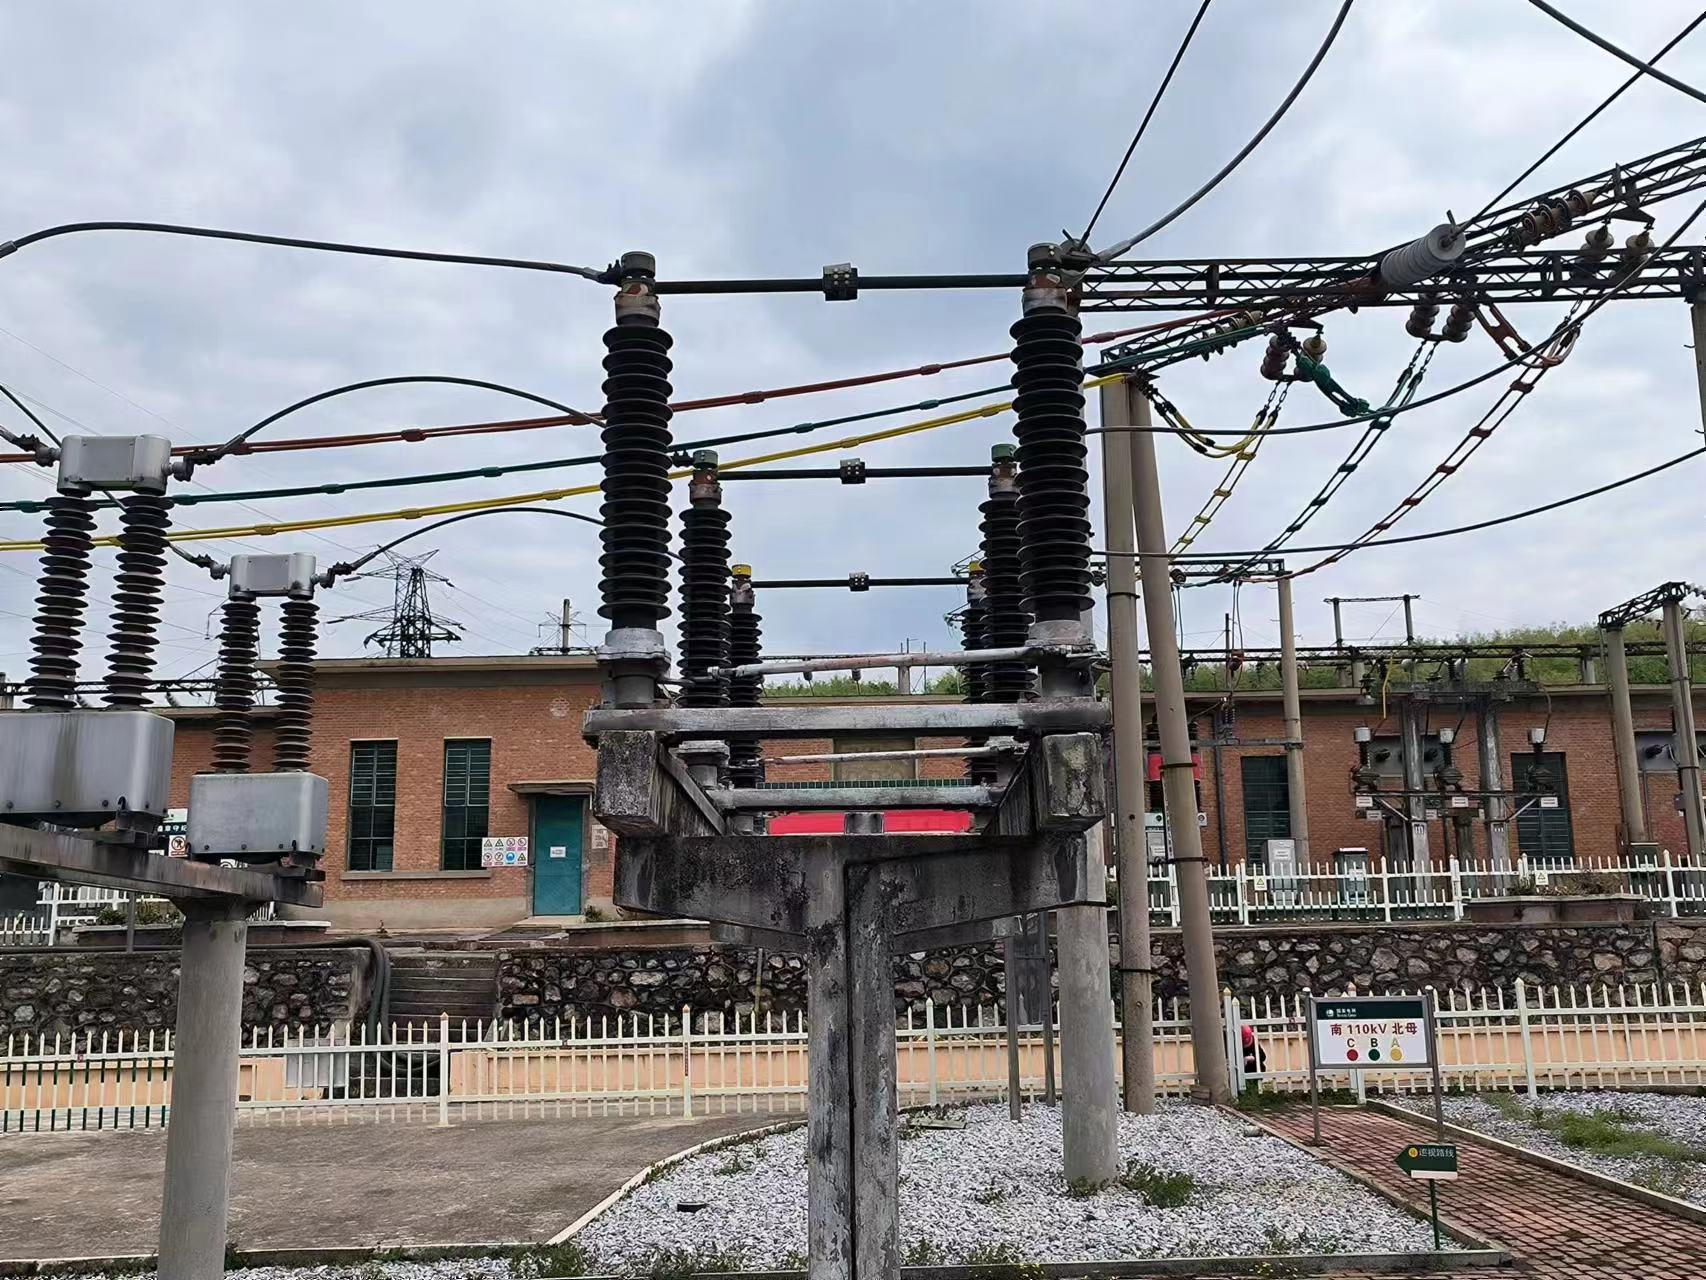Disconnecting link: (577, 241, 1117, 713)
